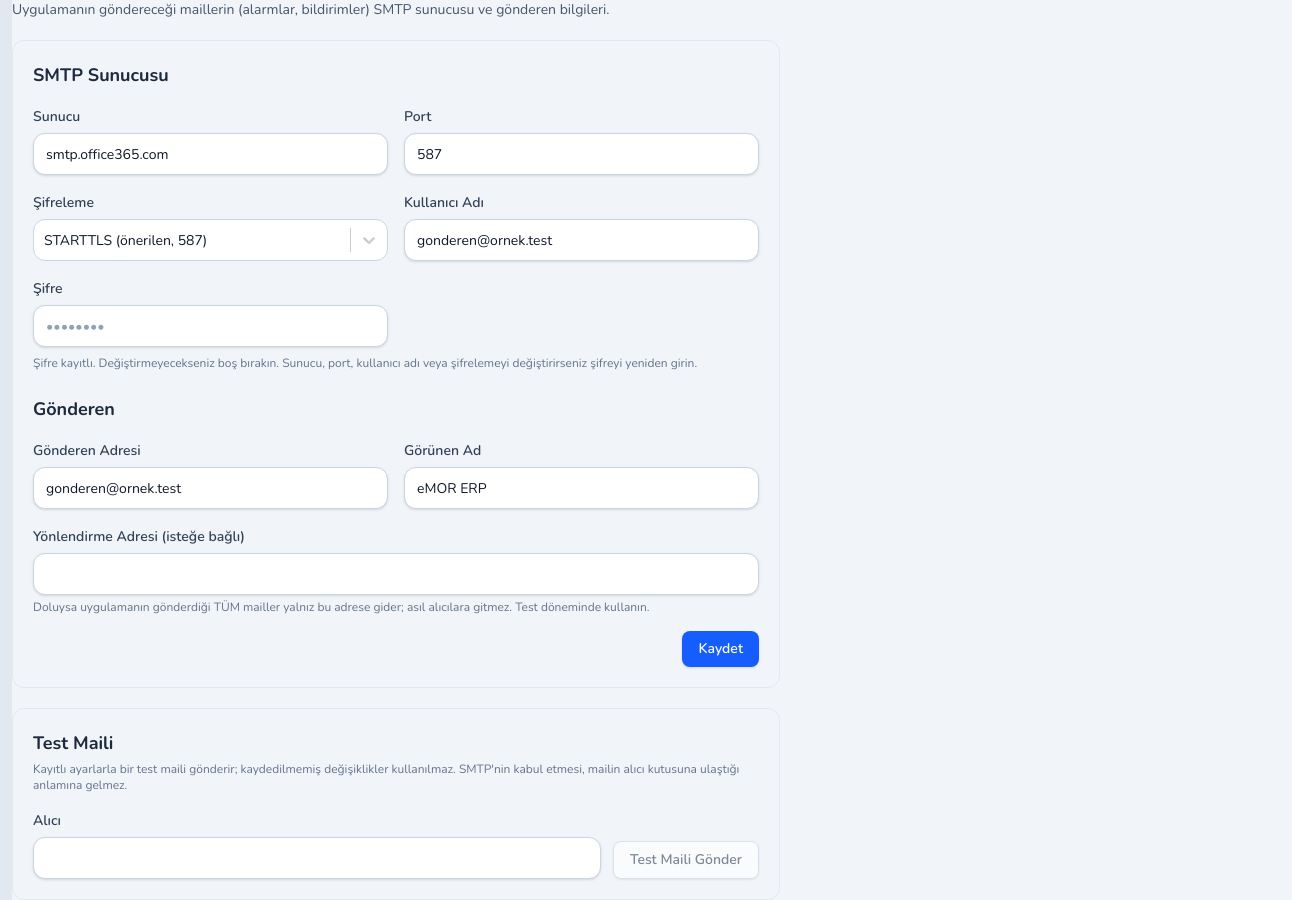
Scenario: MailAyarlariPage › test mailini yazılan alıcıya gönderir ve sonucu gösterir
(page scrolled)
Check: the field showing "smtp.office365.com" is shown, box [33,133,388,175]
Step 1. Type "alici@ornek.test" into the field with id "mail-test-alici" → (317, 858), box [33,837,601,879]
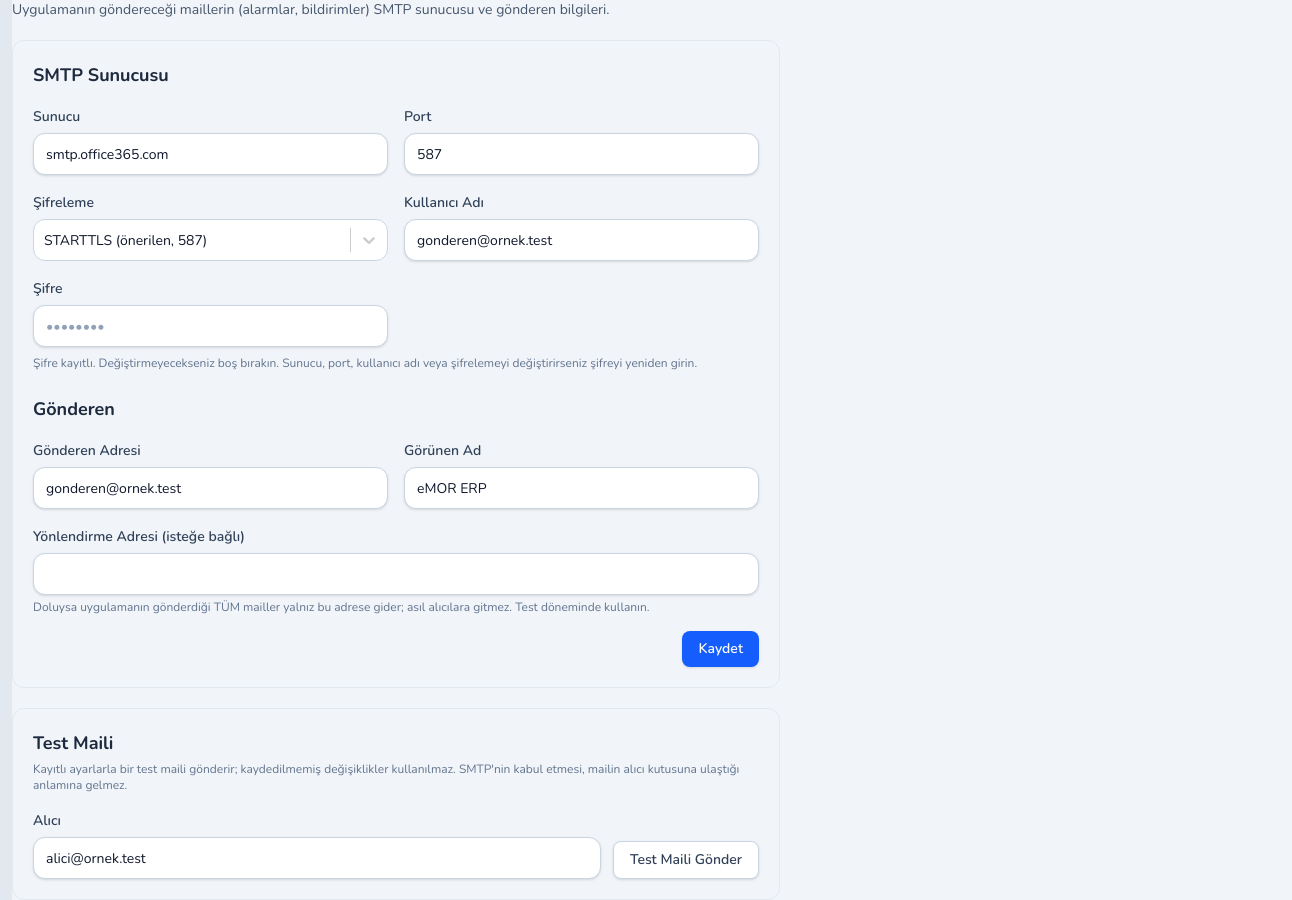
Step 2. Click the button "Test Maili Gönder" → (686, 860), box [613,841,759,879]
(page scrolled)
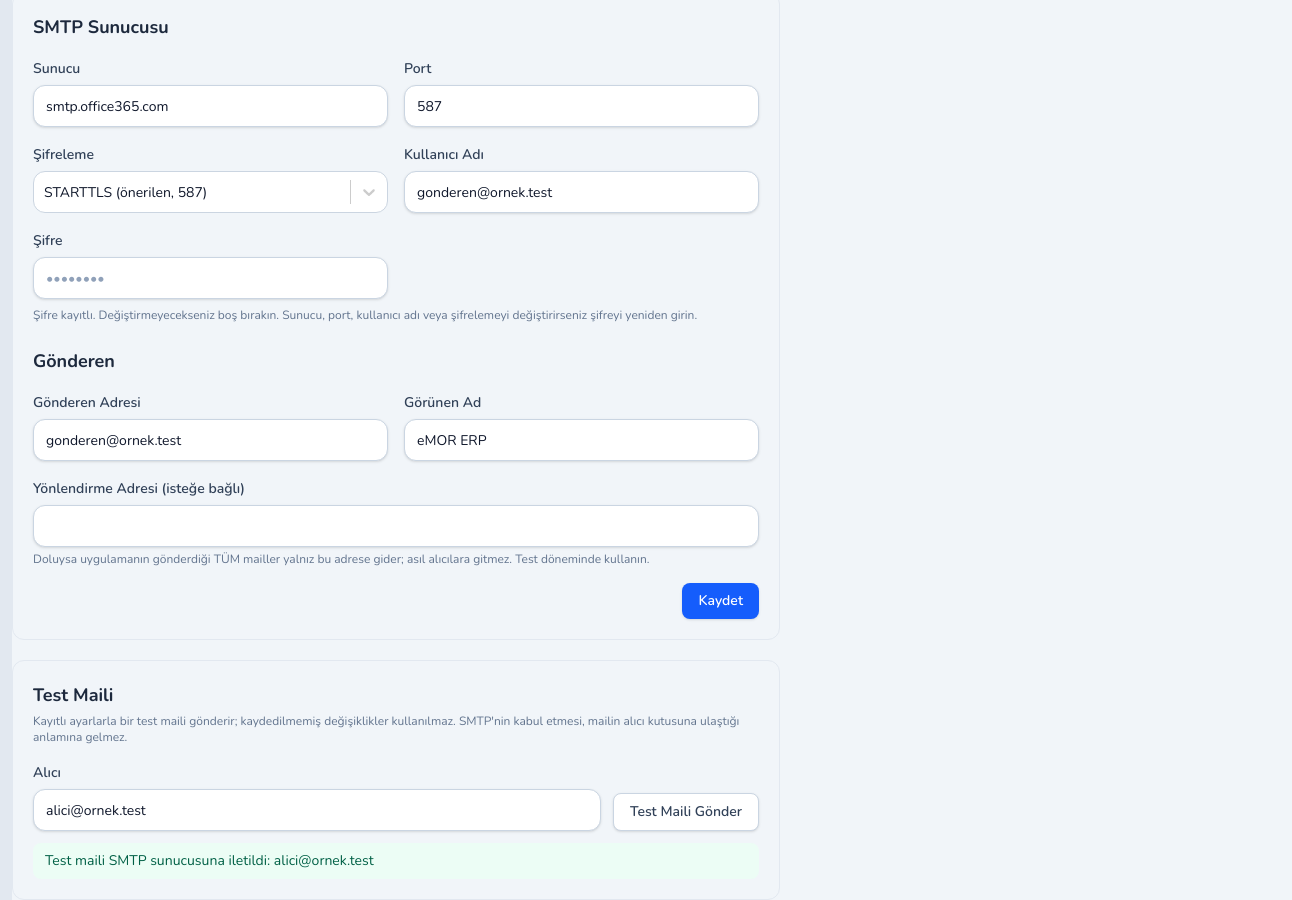
Check: the message shows "alici@ornek.test", box [45,851,374,870]
